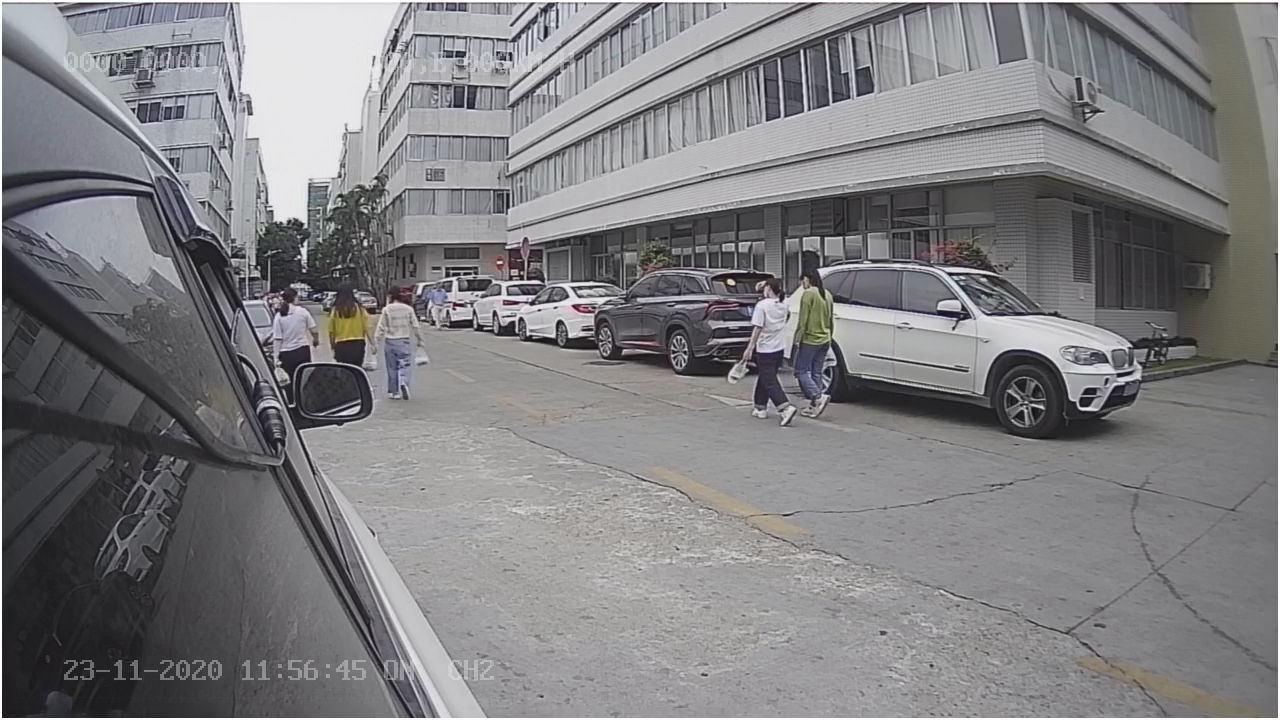person: (733, 275, 799, 426), (786, 268, 838, 423), (372, 286, 425, 401), (269, 284, 317, 363), (327, 275, 370, 359)
